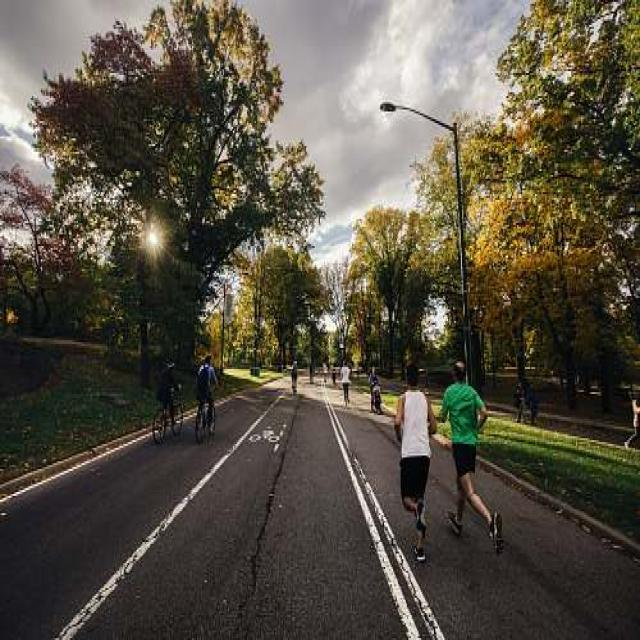running: (442, 358, 503, 559), (393, 365, 440, 566)
